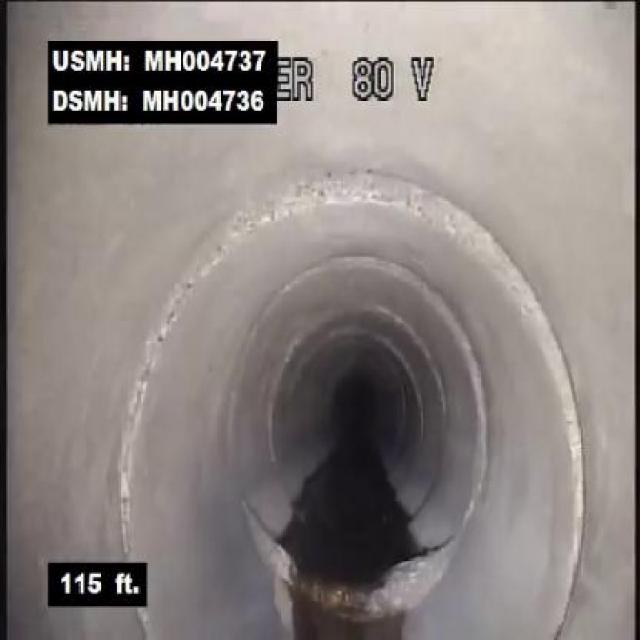Debris: (249, 500, 460, 632)
